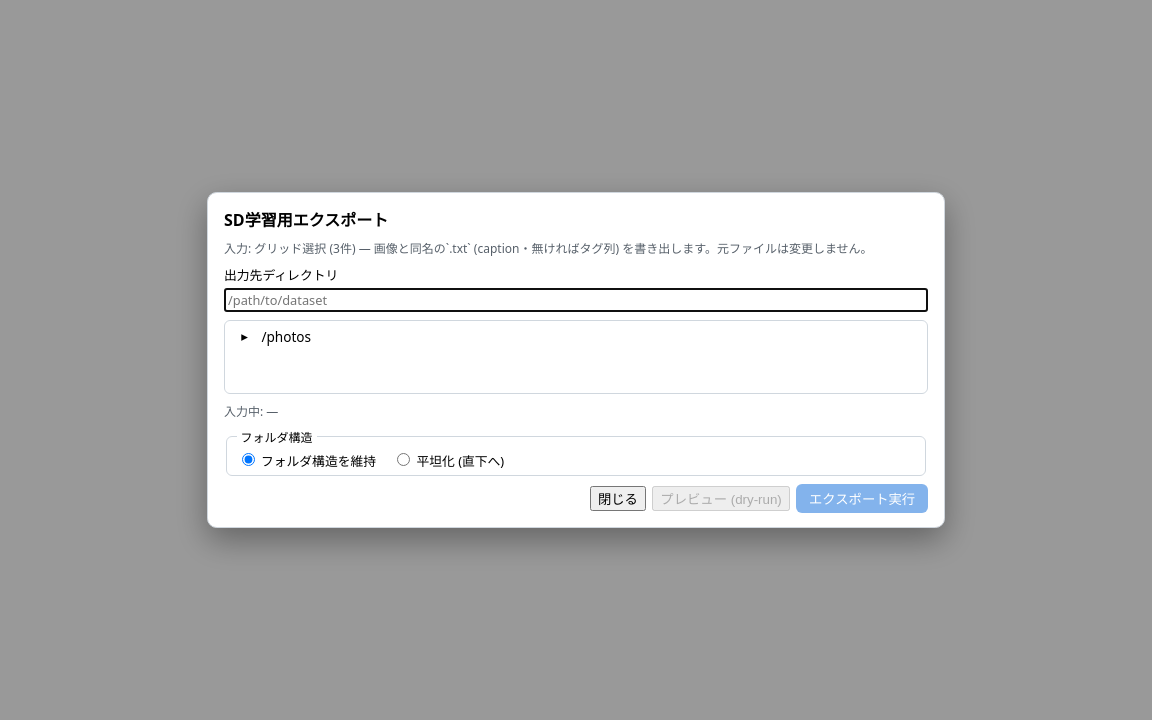
it: ExportDialog (コンポーネント描画) › preview失敗はエラー表示し実行不可のまま
The image size is (1152, 720).
Type "/out" into the field with test id "export-dest" at (576, 300), box [224,288,928,312]
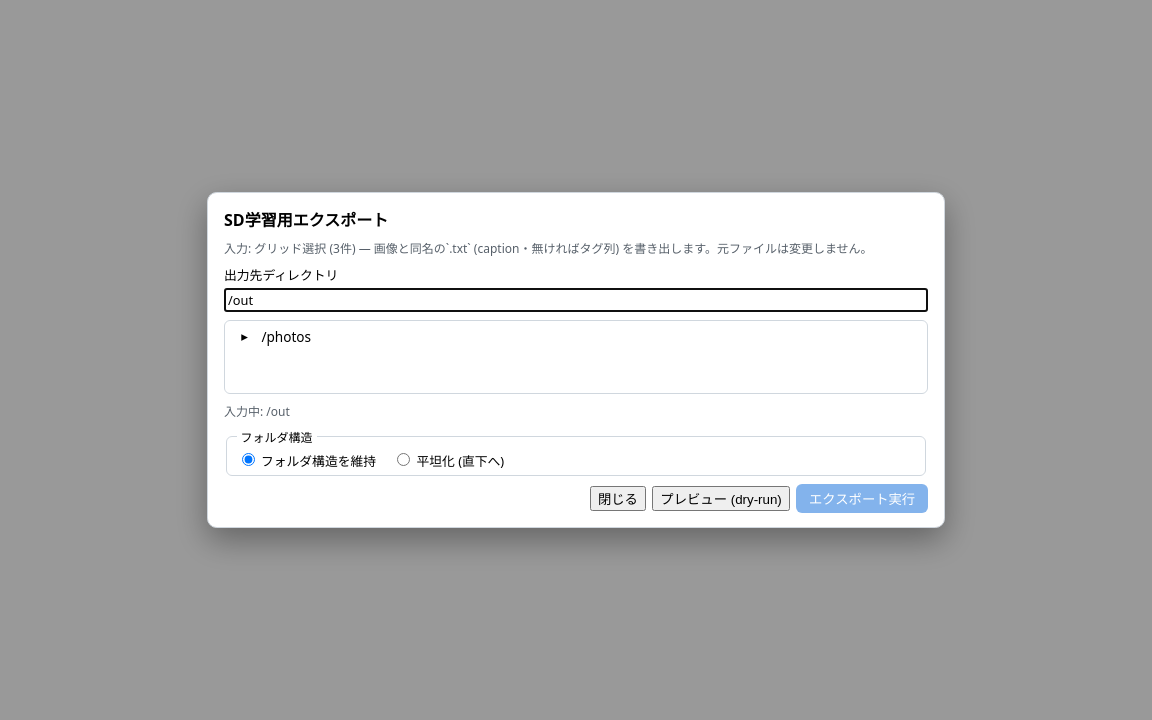
Click the button with test id "export-preview-button" at (721, 498), box [652,486,790,511]
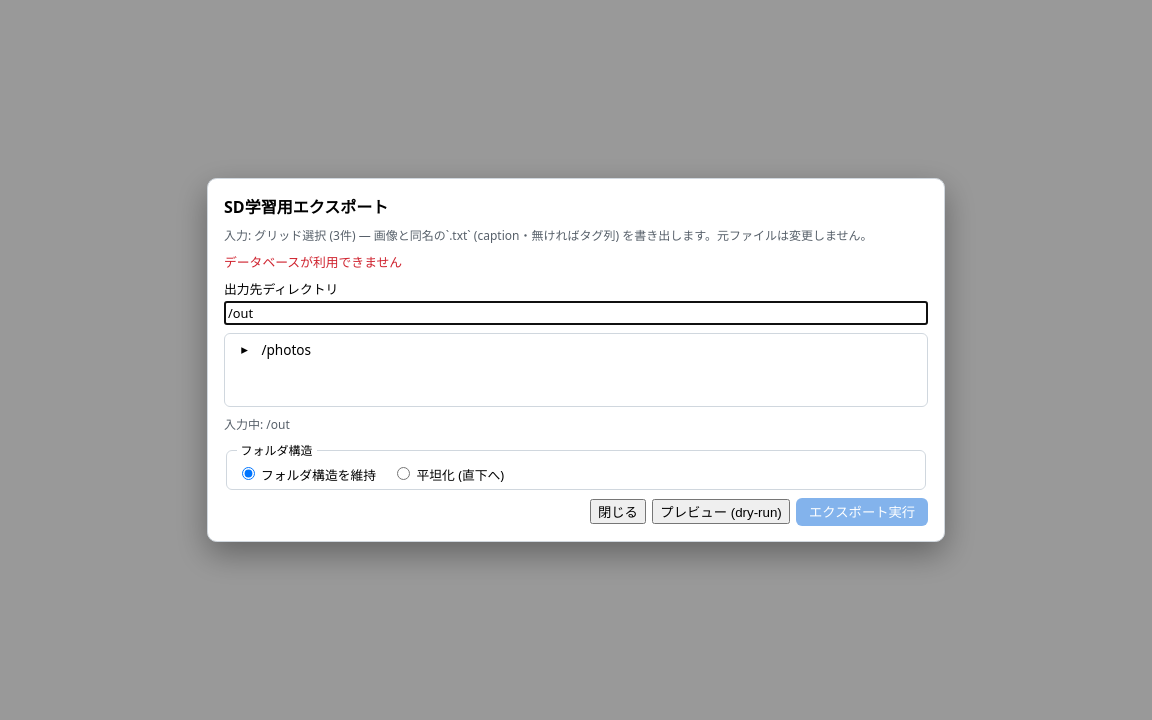
Expected: the button with test id "export-execute-button" is disabled, [796,498,928,526]
Now the message with test id "export-error" reads "データベースが利用できません", box [224,253,402,271]
